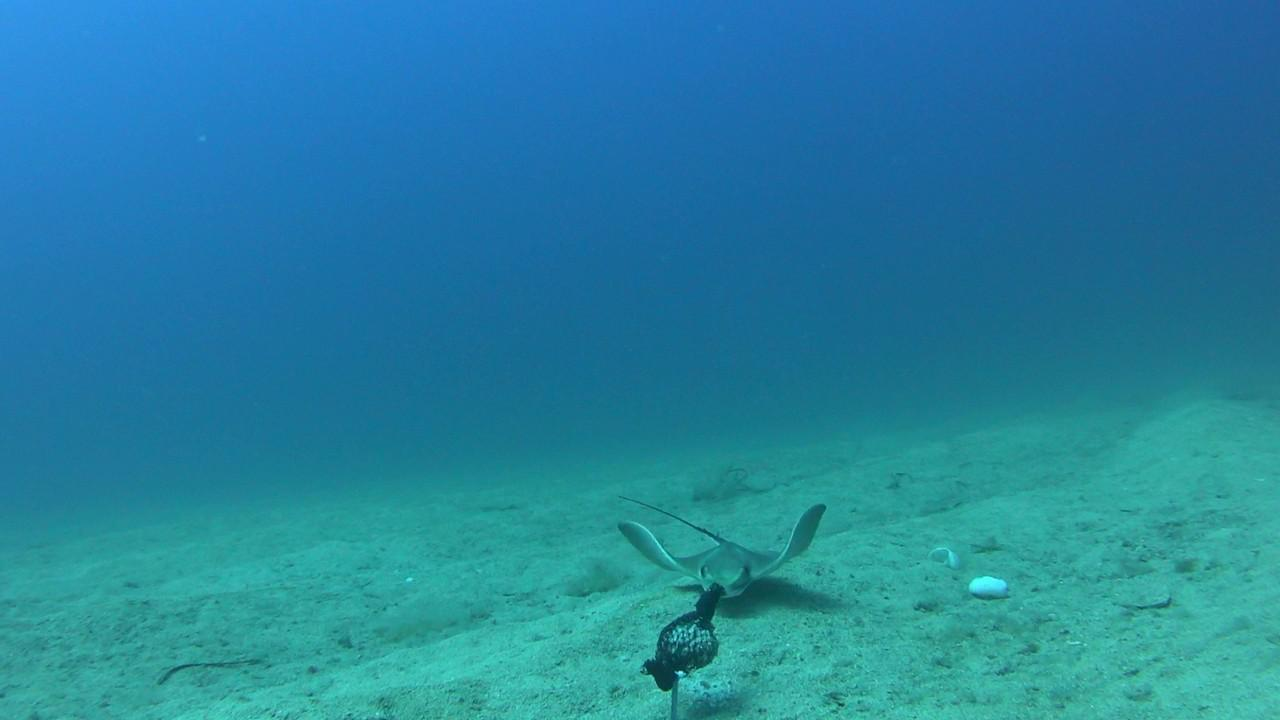myliobatis: (611, 474, 832, 599)
